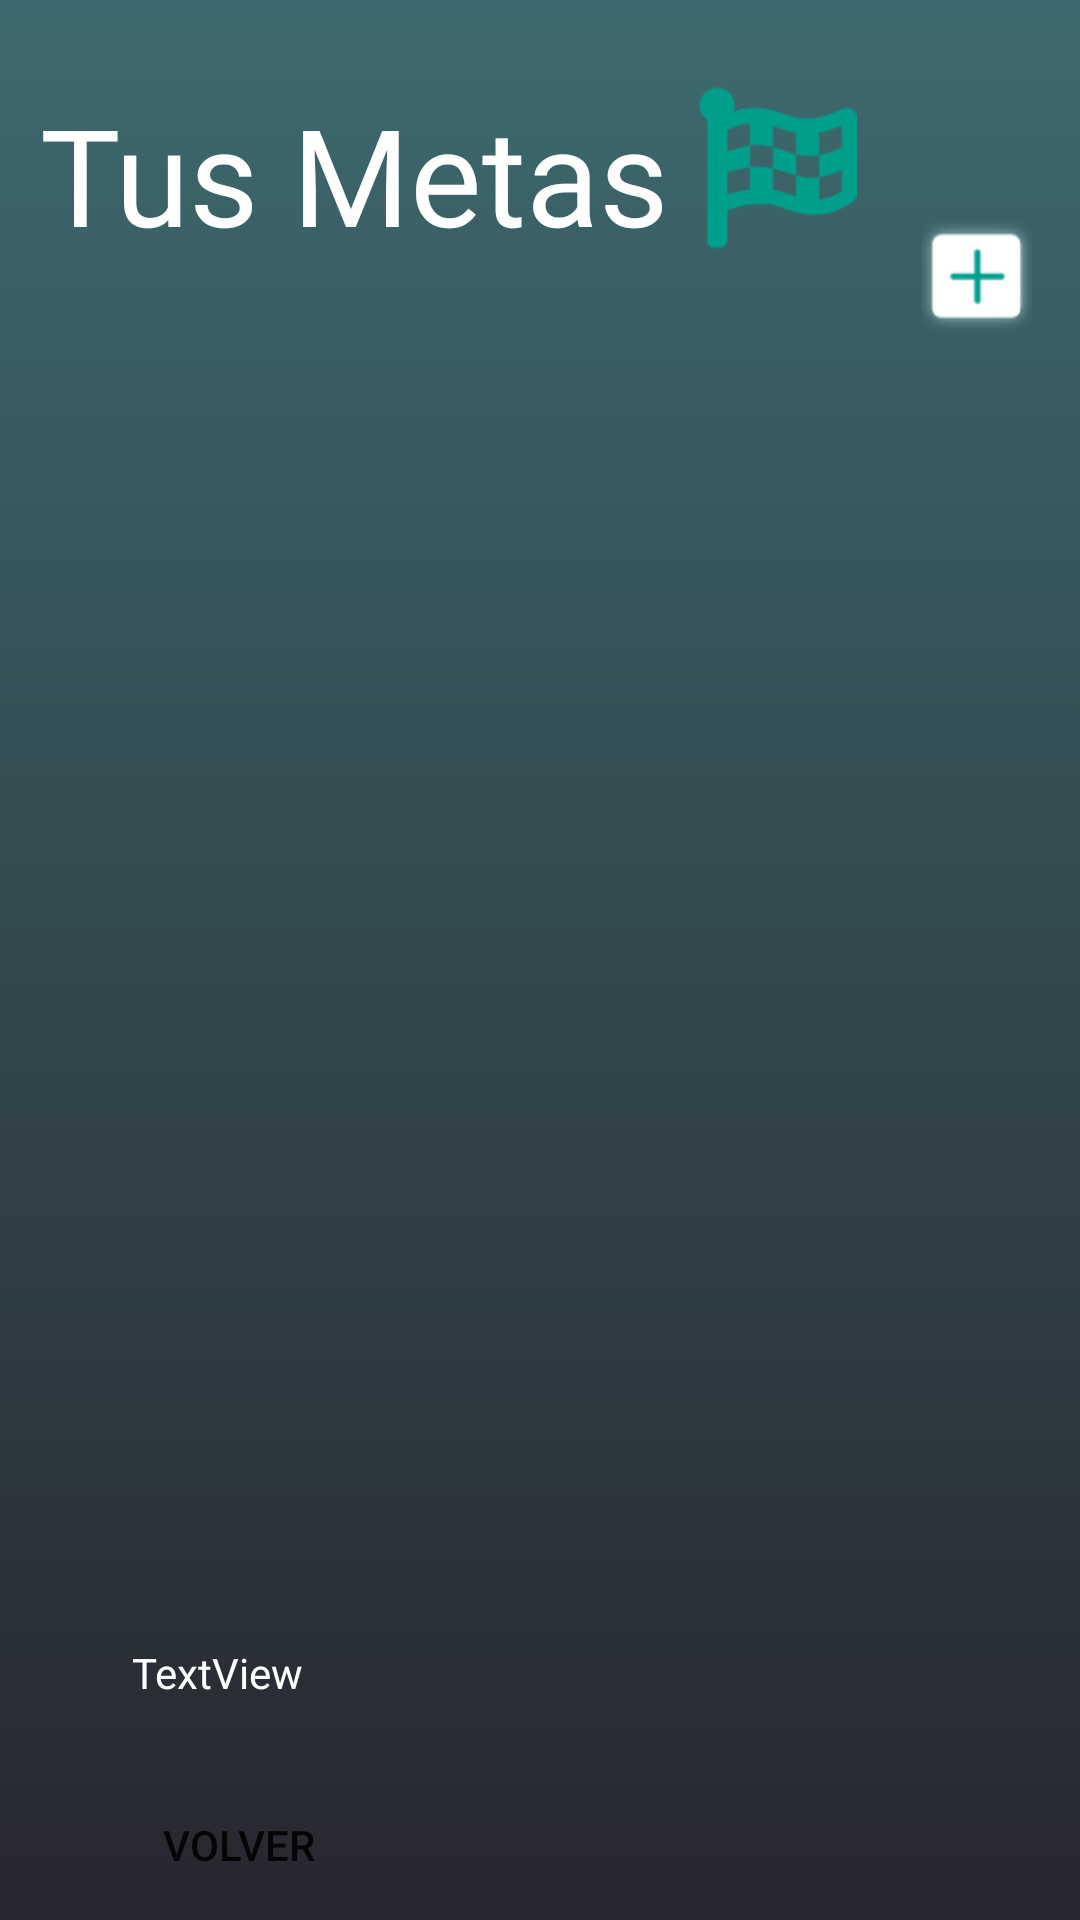

Icon click points for this 1080px x 1920px phone screenshot, format (x,y):
flag checkered: (778,168)
